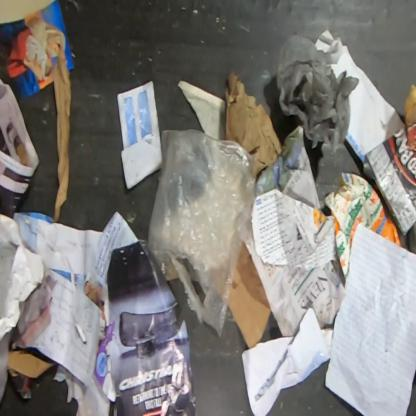cardboard: (326, 172, 401, 283), (225, 72, 283, 182), (228, 242, 271, 348)
soft_plastic: (147, 130, 253, 336), (278, 33, 360, 155)
